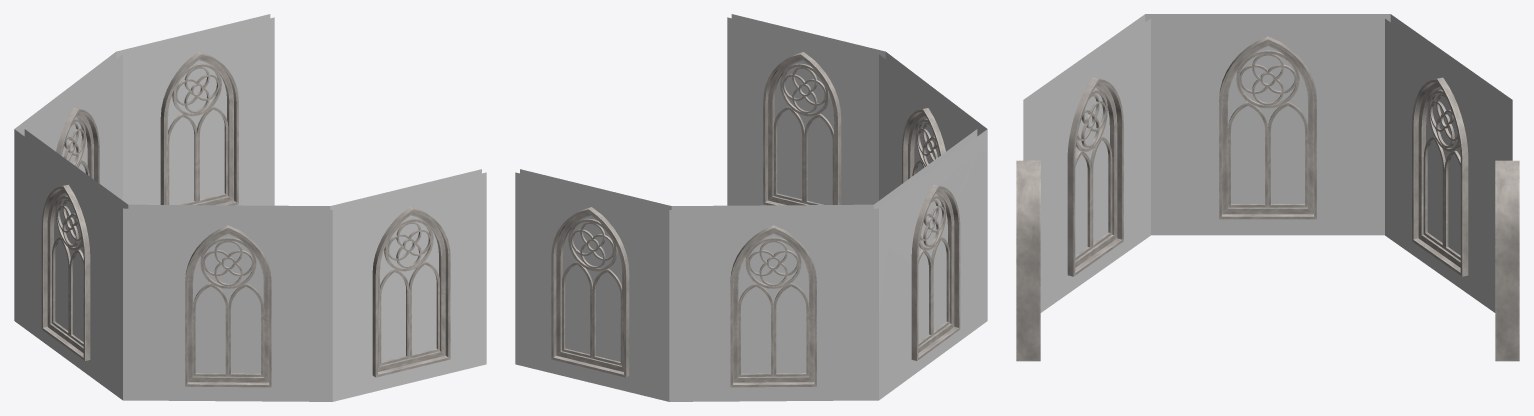
The model's file is Ambulatory_Inner_B_B.fbx.
3 renders of one model, left to right at view 1: azimuth 30°, elevation 25°; view 2: azimuth 150°, elevation 25°; view 3: azimuth 270°, elevation 25°, orthographic. The views are drawn at different scales.
Visible parts, largest first — view 1: Ambulatory_Inner_B_B; view 2: Ambulatory_Inner_B_B; view 3: Ambulatory_Inner_B_B.
Boxes of the visible parts, <box> form: Ambulatory_Inner_B_B: <box>14,14,486,401</box>; Ambulatory_Inner_B_B: <box>515,14,987,401</box>; Ambulatory_Inner_B_B: <box>1016,14,1519,361</box>.
Bounding box in the file's own units: 10.31 × 12.61 × 6.
